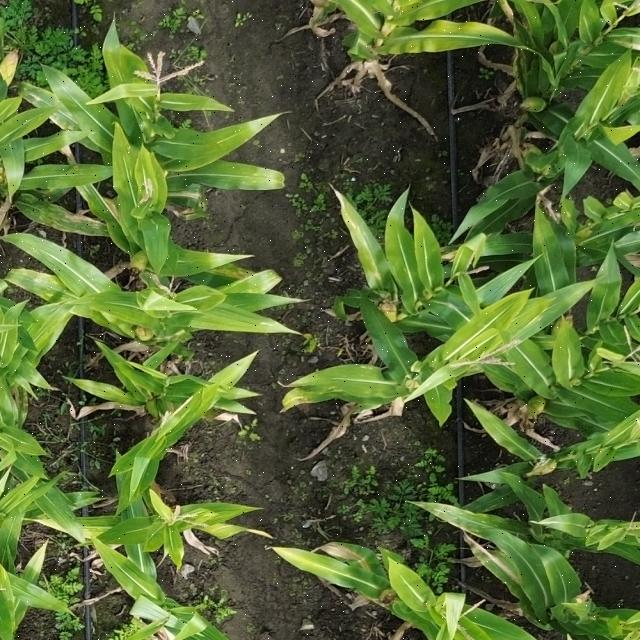gray-leaf-spot: (25, 198, 96, 235), (433, 504, 496, 534), (346, 214, 377, 265), (323, 370, 383, 396), (235, 166, 284, 191), (244, 273, 284, 295)
northern-leaf-blight: (330, 544, 382, 572), (478, 545, 519, 580), (168, 185, 198, 202)
southern-leaf-blight: (25, 90, 75, 129), (16, 269, 64, 298), (212, 261, 250, 281)
